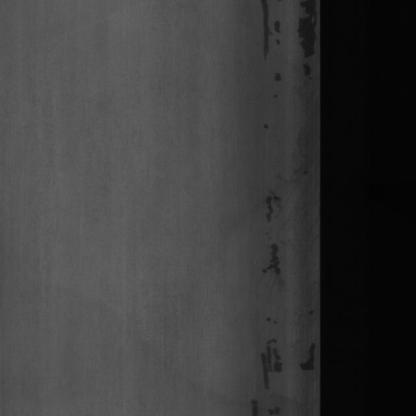oil_spot: (259, 2, 284, 100), (263, 189, 288, 286), (296, 2, 318, 82), (256, 335, 284, 390), (249, 398, 287, 416), (301, 337, 317, 373)
